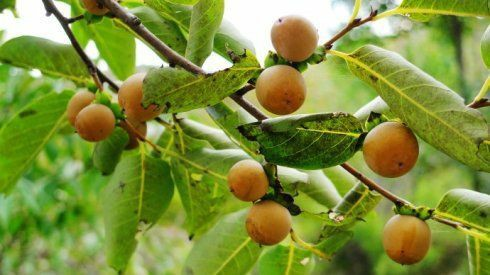pear: (362, 120, 417, 178), (254, 65, 305, 114), (381, 214, 430, 265), (271, 13, 318, 61), (118, 72, 162, 122), (245, 199, 292, 244), (224, 157, 267, 198), (74, 104, 115, 141), (67, 89, 98, 121)
